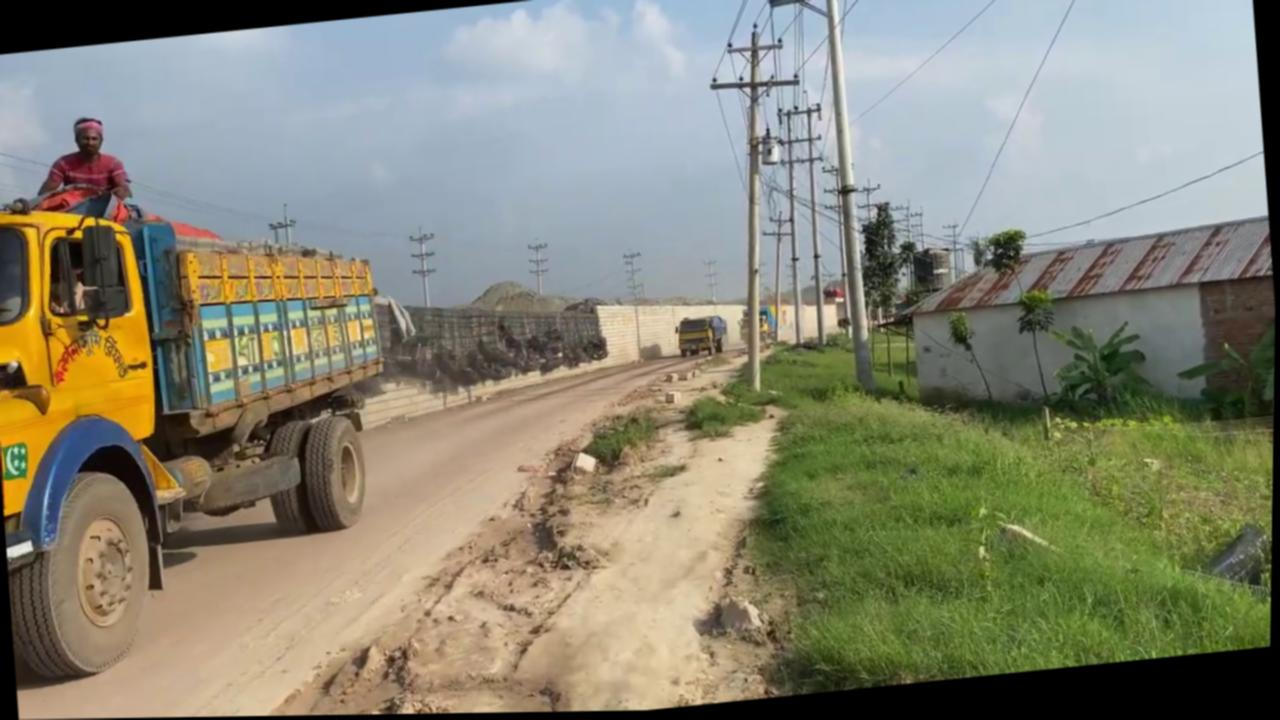Garbage: (392, 286, 607, 389)
Muddy road: (0, 338, 802, 720)
Pole: (760, 0, 887, 401), (700, 23, 826, 397), (814, 0, 882, 396)
Traffic-sign: (1047, 319, 1151, 423), (1011, 289, 1066, 444)
Tree: (0, 159, 412, 684), (674, 315, 729, 360), (736, 306, 779, 352)
